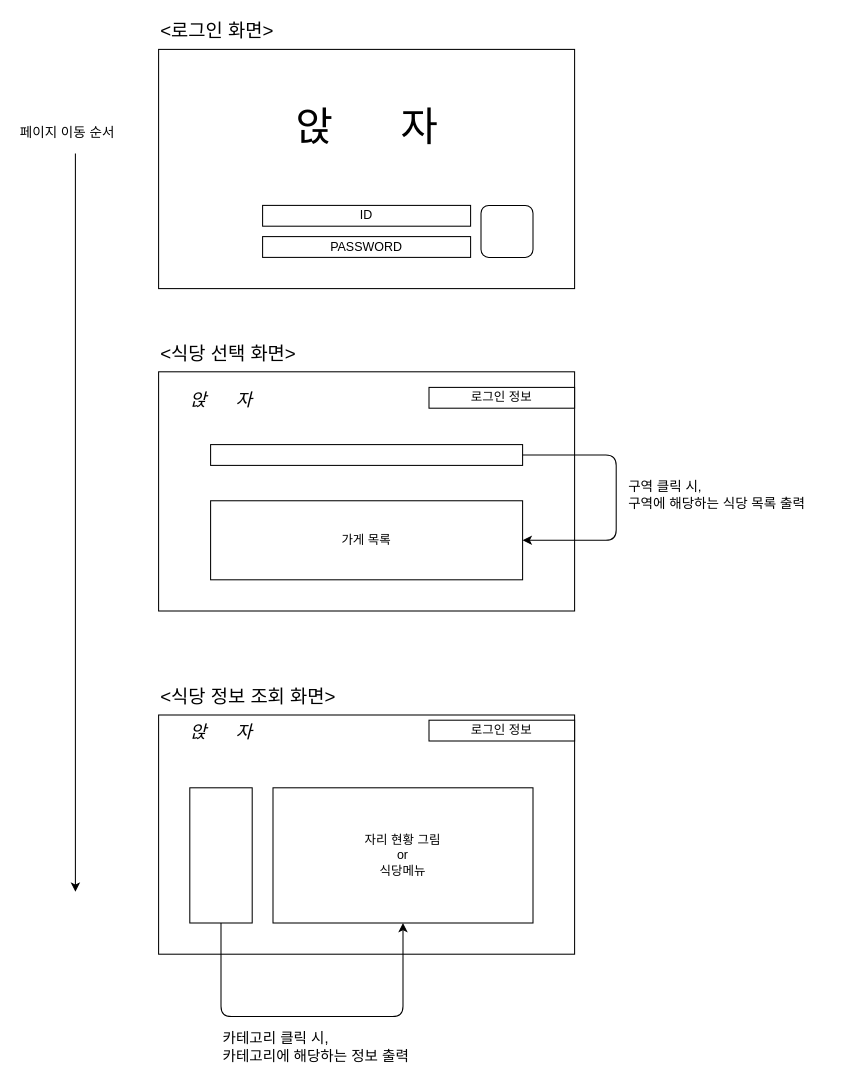
Some shapes in this 862 by 1086 pixel diagram are drawn without their labels. The shapes that lost their labels are listed below. From the top down, each one's centre as x and y in pixels, then its label:
pixel 506 230: LOGIN
pixel 366 454: 북문 정문 동문 서문
pixel 220 855: -자리 현황 -식당메뉴 조회
